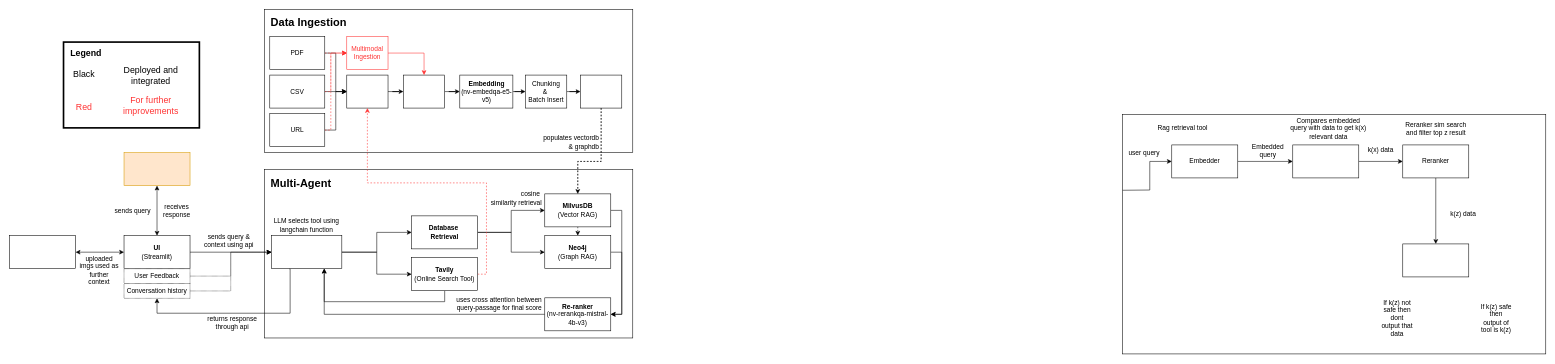
The diagram is 1555 pixels wide and 364 high, and some of its shapes have lost their labels. Each missing label, with the box of its shape:
Datastore: (580, 75, 622, 108)
Filtering & Categorising: (403, 75, 445, 108)
Guardrail??: (1402, 243, 1469, 277)
LLM (llama-3.1-8b-instruct): (271, 235, 342, 269)
Scraping: (346, 75, 388, 108)
User: (123, 152, 190, 186)
vectorstore: (1292, 144, 1359, 178)
VLM (Qwen_VLM): (9, 235, 76, 269)
